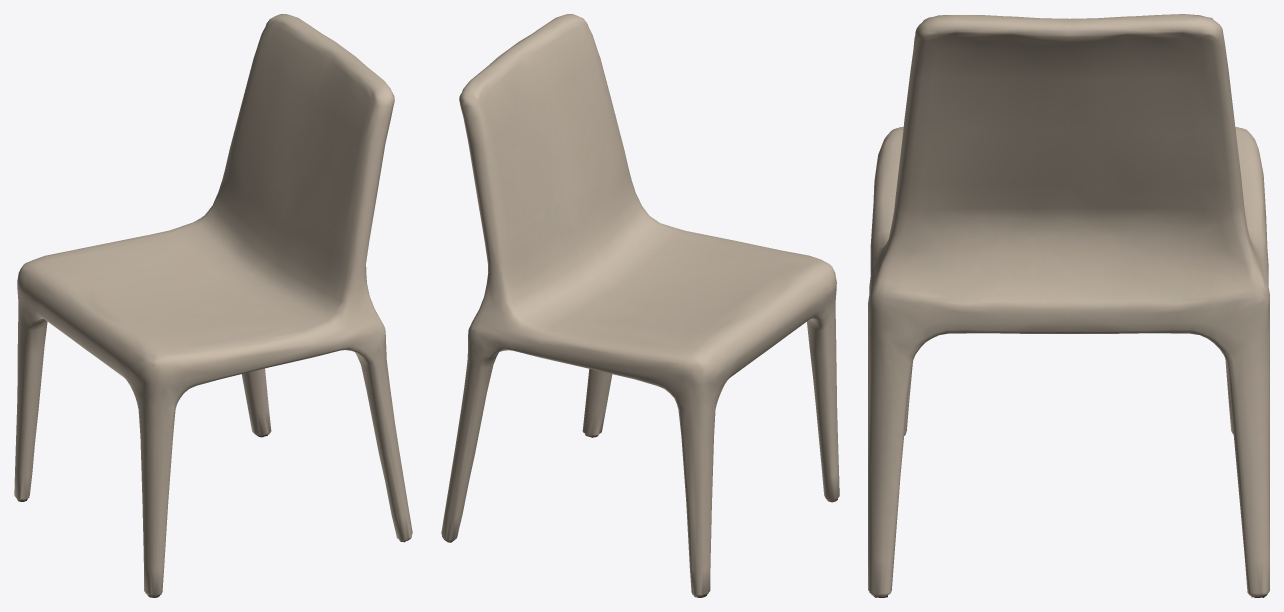
3 renders of one model, left to right at view 1: azimuth 30°, elevation 25°; view 2: azimuth 150°, elevation 25°; view 3: azimuth 270°, elevation 25°, orthographic. The views are drawn at different scales.
Visible parts, largest first — view 1: tripo_node_ee8a9f05-717e-4e07-94f2-2d658cb244c3; view 2: tripo_node_ee8a9f05-717e-4e07-94f2-2d658cb244c3; view 3: tripo_node_ee8a9f05-717e-4e07-94f2-2d658cb244c3.
Boxes of the visible parts, bbox=[...] form: tripo_node_ee8a9f05-717e-4e07-94f2-2d658cb244c3: bbox=[14, 14, 412, 597]; tripo_node_ee8a9f05-717e-4e07-94f2-2d658cb244c3: bbox=[441, 14, 839, 597]; tripo_node_ee8a9f05-717e-4e07-94f2-2d658cb244c3: bbox=[868, 14, 1269, 597].
Bounding box in the file's own units: 0.6426 × 0.998 × 0.6269.
1 material, 1 textured.
